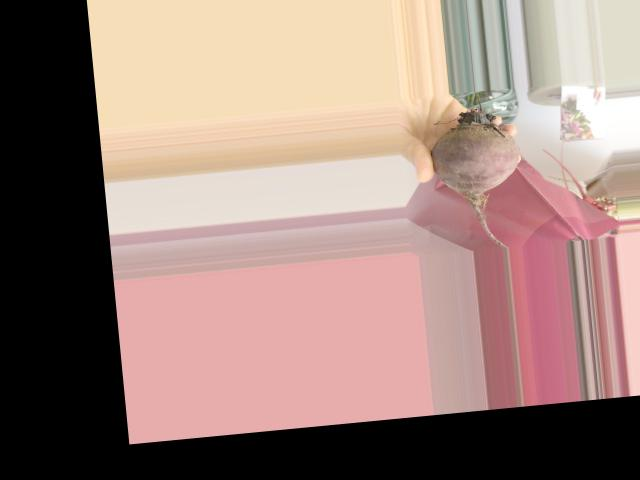beet: (426, 87, 528, 253)
